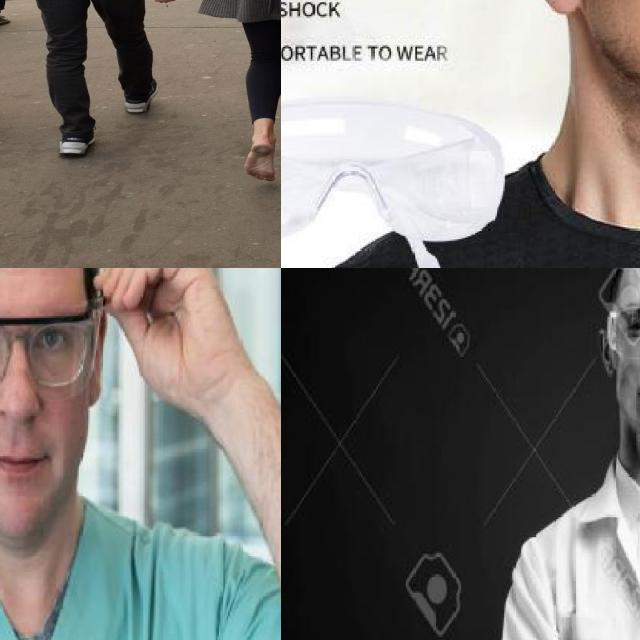Barefoots: (244, 140, 275, 182)
face_nomask: (0, 308, 91, 499), (612, 306, 640, 413)
glasses: (0, 293, 107, 402), (606, 301, 640, 373)
hand_noglove: (87, 268, 234, 405)
person: (0, 268, 281, 640), (288, 0, 640, 268), (486, 268, 640, 640)
